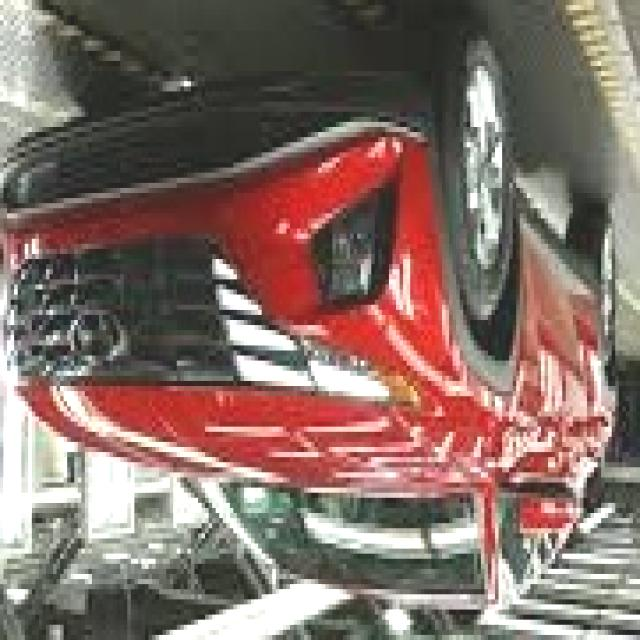red: (2, 124, 614, 603)
